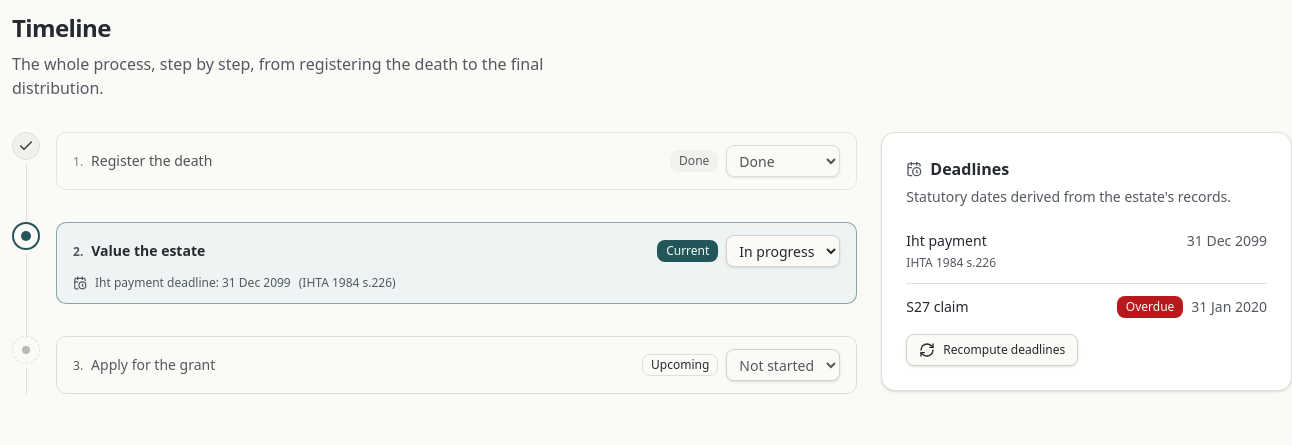
Test: TimelinePage › recomputes deadlines and reports the result
Click the button "Recompute deadlines": [992, 350] box [906,334,1078,366]
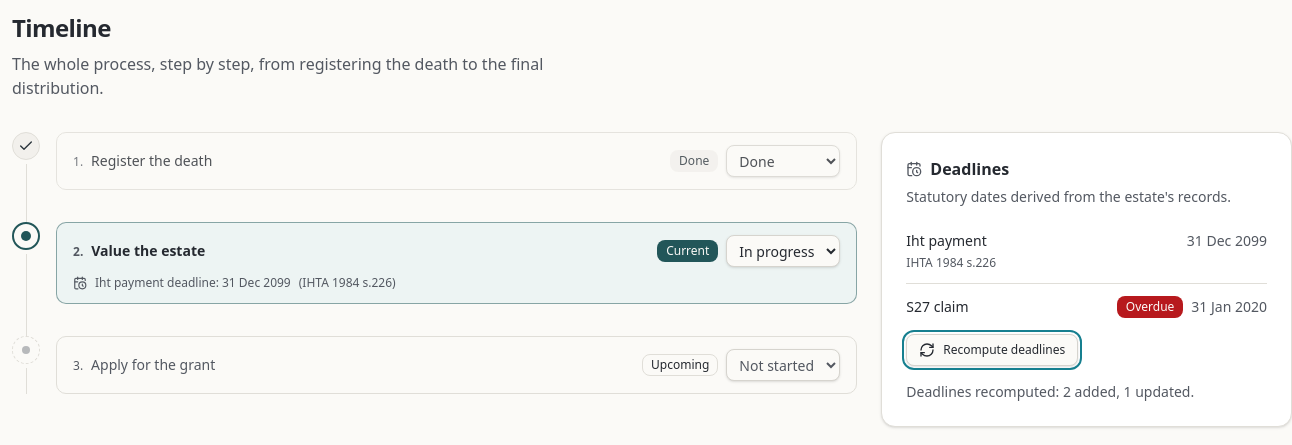
Result: the message reads "Deadlines recomputed: 2 added, 1 updated." at [906,382,1194,401]
